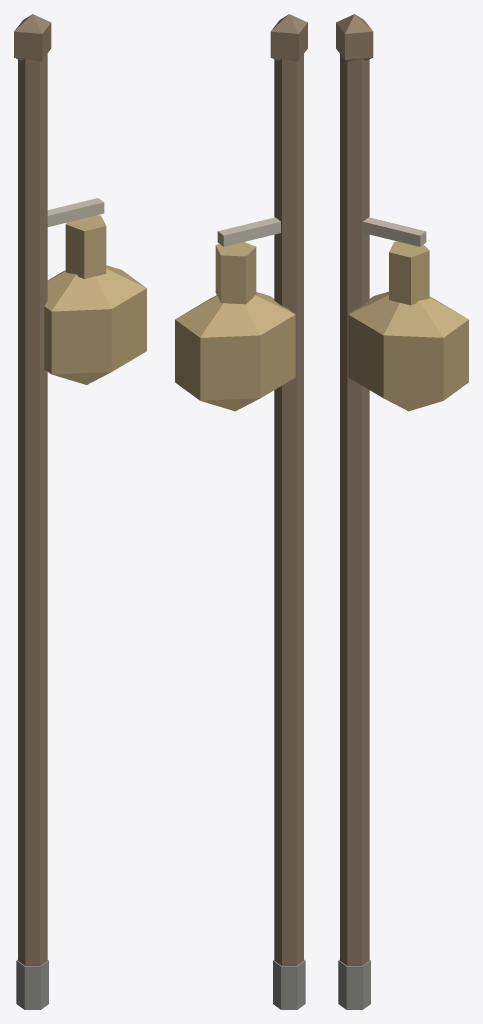
File: pilgrim-staff.glb
3 renders of one model, left to right at view 1: azimuth 30°, elevation 25°; view 2: azimuth 210°, elevation 25°; view 3: azimuth 330°, elevation 25°, orthographic.
Parts seen in each view (by area): view 1: pilgrim_staff; view 2: pilgrim_staff; view 3: pilgrim_staff.
Part boxes in pixels (x1,y1,x2,y2): pilgrim_staff: (14, 14, 146, 1009); pilgrim_staff: (175, 14, 307, 1009); pilgrim_staff: (336, 14, 468, 1009).
Bounding box in the file's own units: 0.0967 × 0.76 × 0.07.
